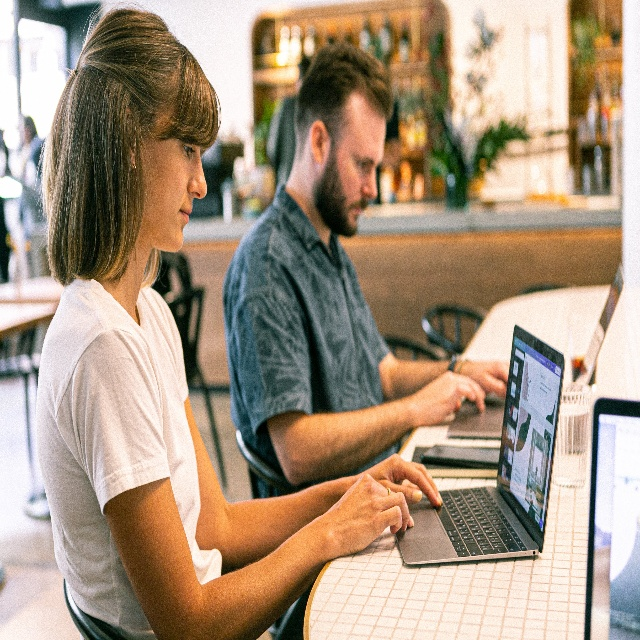Sin_guantes: (324, 472, 415, 559), (349, 453, 443, 509), (411, 368, 486, 428), (455, 356, 509, 397)
